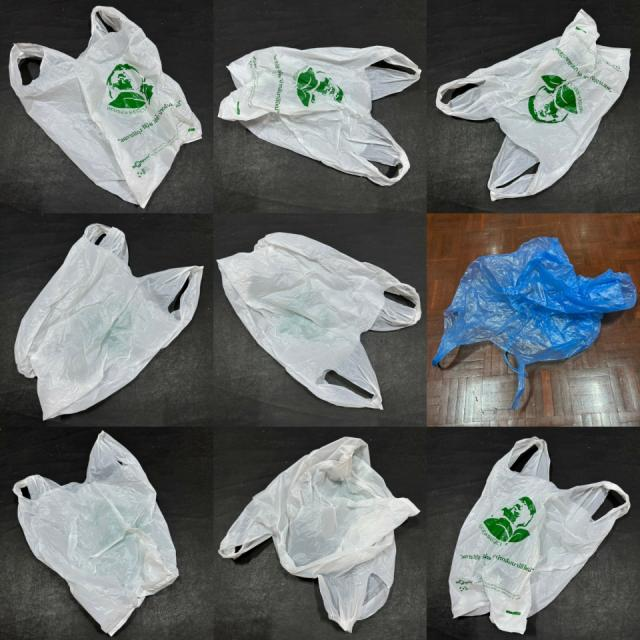Single-layer Plastic: (219, 438, 419, 631), (10, 6, 201, 207), (436, 10, 630, 199), (15, 224, 202, 419), (218, 234, 421, 408), (449, 438, 630, 633), (432, 238, 636, 409), (14, 431, 179, 634), (219, 46, 421, 186)
